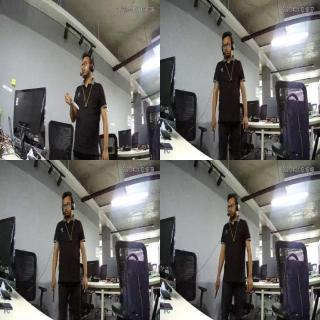knife: (68, 98, 79, 112), (212, 285, 218, 301), (212, 124, 216, 144), (51, 286, 55, 304)
